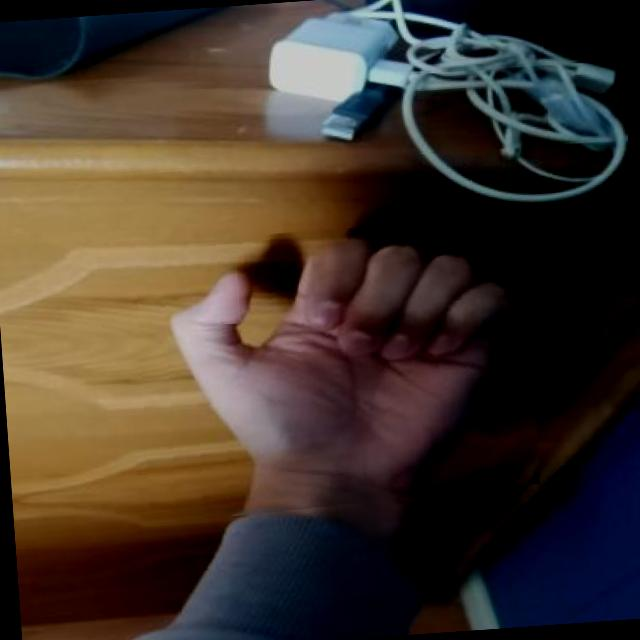E: (120, 215, 544, 526)
